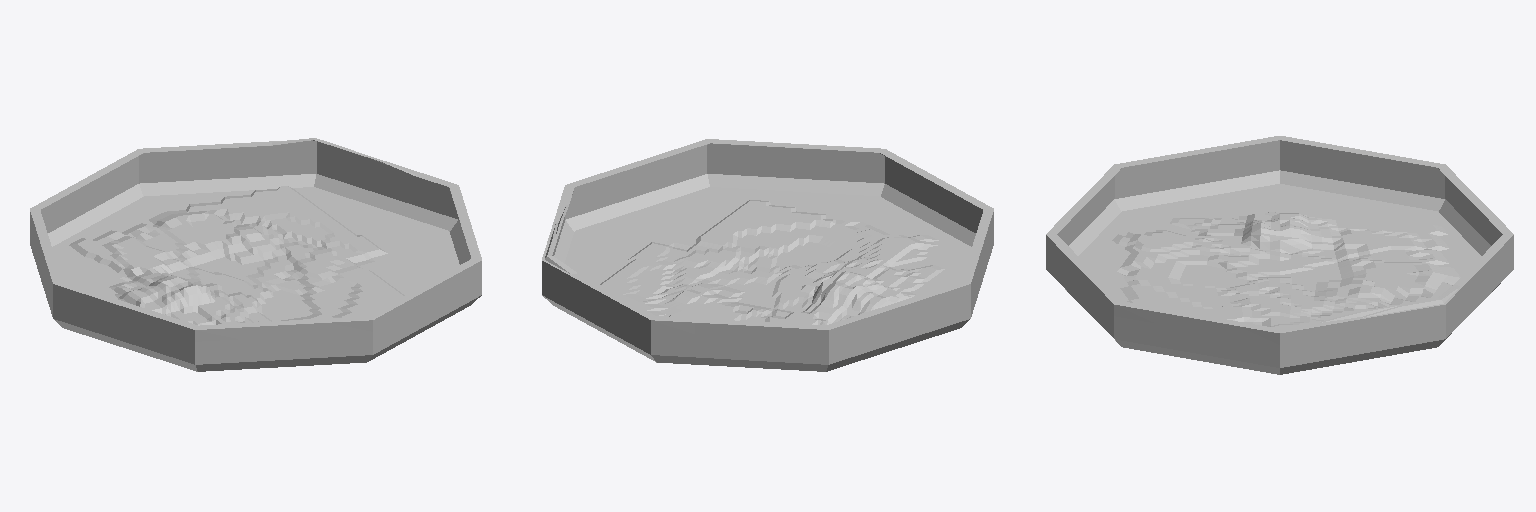
Rendered from arena8.obj.
3 renders of one model, left to right at view 1: azimuth 30°, elevation 25°; view 2: azimuth 150°, elevation 25°; view 3: azimuth 270°, elevation 25°, orthographic.
Parts seen in each view (by area): view 1: Mesh Mesh; view 2: Mesh Mesh; view 3: Mesh Mesh.
Part boxes in pixels (left/top/right/bottom): Mesh Mesh: left=30, top=138, right=481, bottom=371; Mesh Mesh: left=542, top=139, right=993, bottom=371; Mesh Mesh: left=1046, top=136, right=1513, bottom=374.
Bounding box in the file's own units: 49.91 × 5.83 × 49.91.